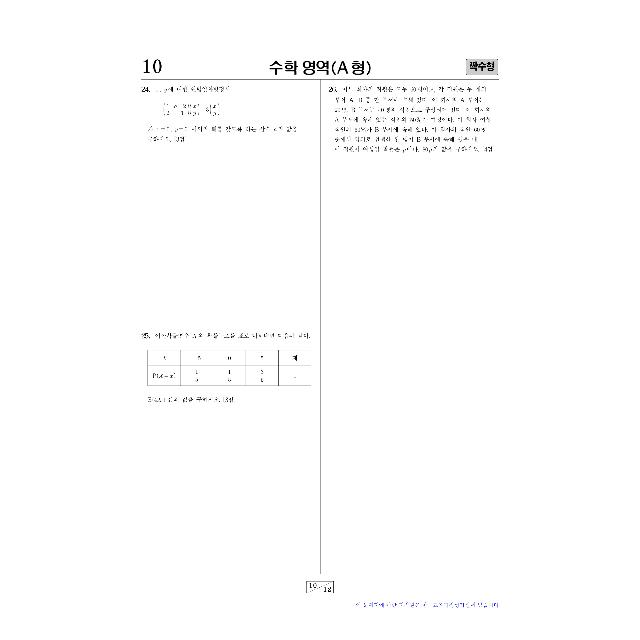short: (138, 324, 318, 412), (324, 82, 501, 158), (134, 82, 314, 156)
